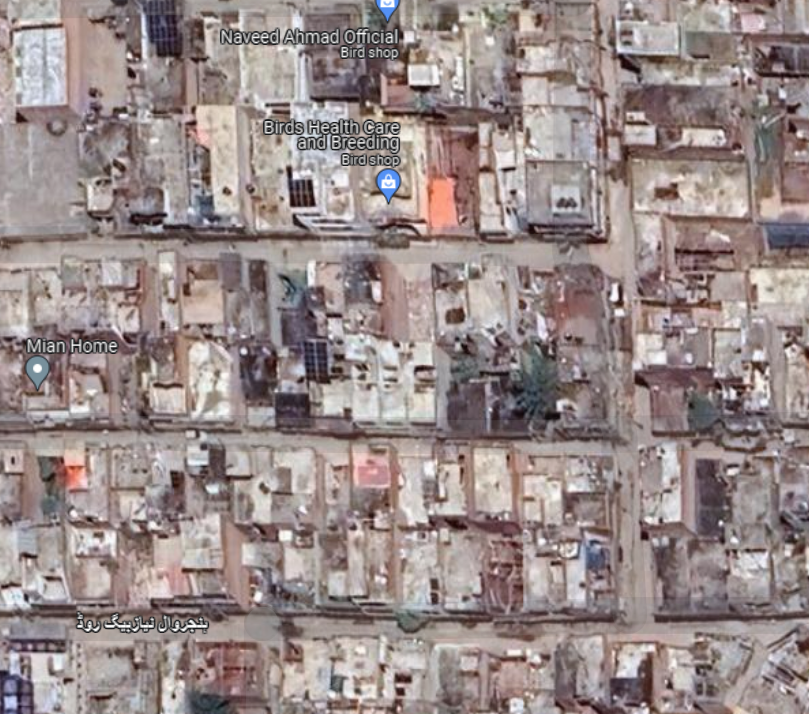solar-panel: (143, 2, 184, 65), (281, 166, 317, 209), (304, 336, 328, 383)
